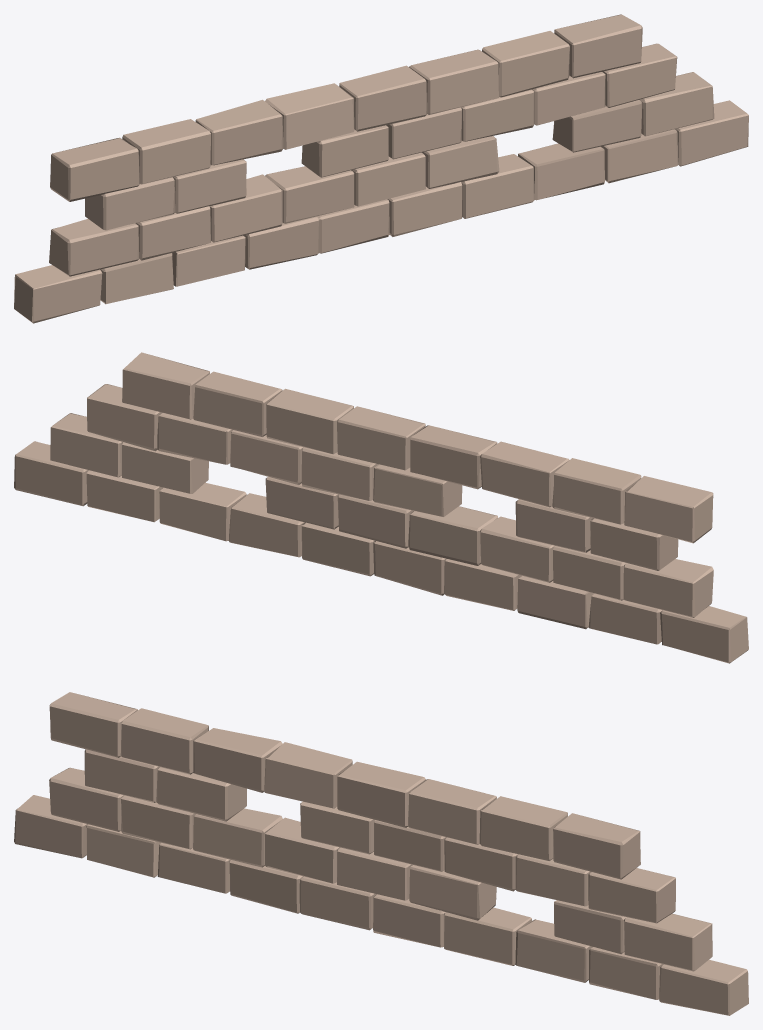
File: BarrenWall1.fbx
3 renders of one model, top to bottom at view 1: azimuth 30°, elevation 25°; view 2: azimuth 150°, elevation 25°; view 3: azimuth 330°, elevation 25°, orthographic.
Visible parts, largest first — view 1: BarrenWall1; view 2: BarrenWall1; view 3: BarrenWall1.
Part boxes in pixels (box(x1,y1,x2,y2)): BarrenWall1: box(14, 14, 748, 323); BarrenWall1: box(14, 352, 748, 663); BarrenWall1: box(14, 692, 748, 1015).
Bounding box in the file's own units: 19.97 × 1.05 × 4.04.
